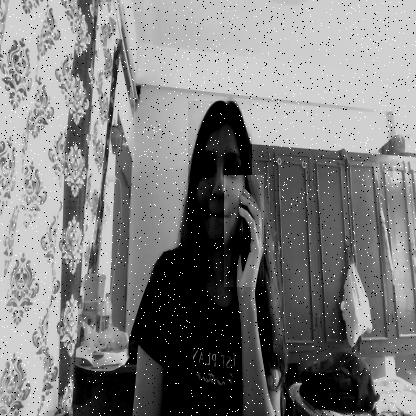Normal: (188, 101, 252, 252), (224, 175, 264, 287)
